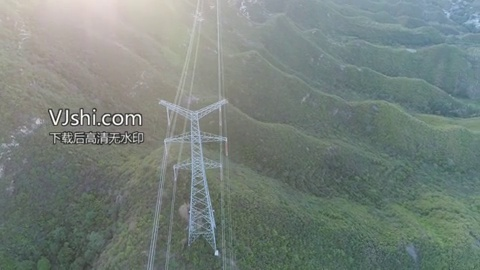tower_body: (151, 95, 236, 257)
tower_foot: (185, 216, 218, 254)
tower_head: (155, 97, 232, 119)
